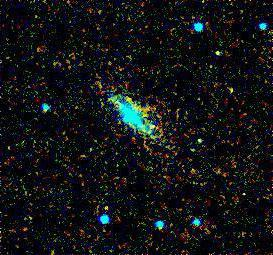star: (184, 126, 214, 156)
